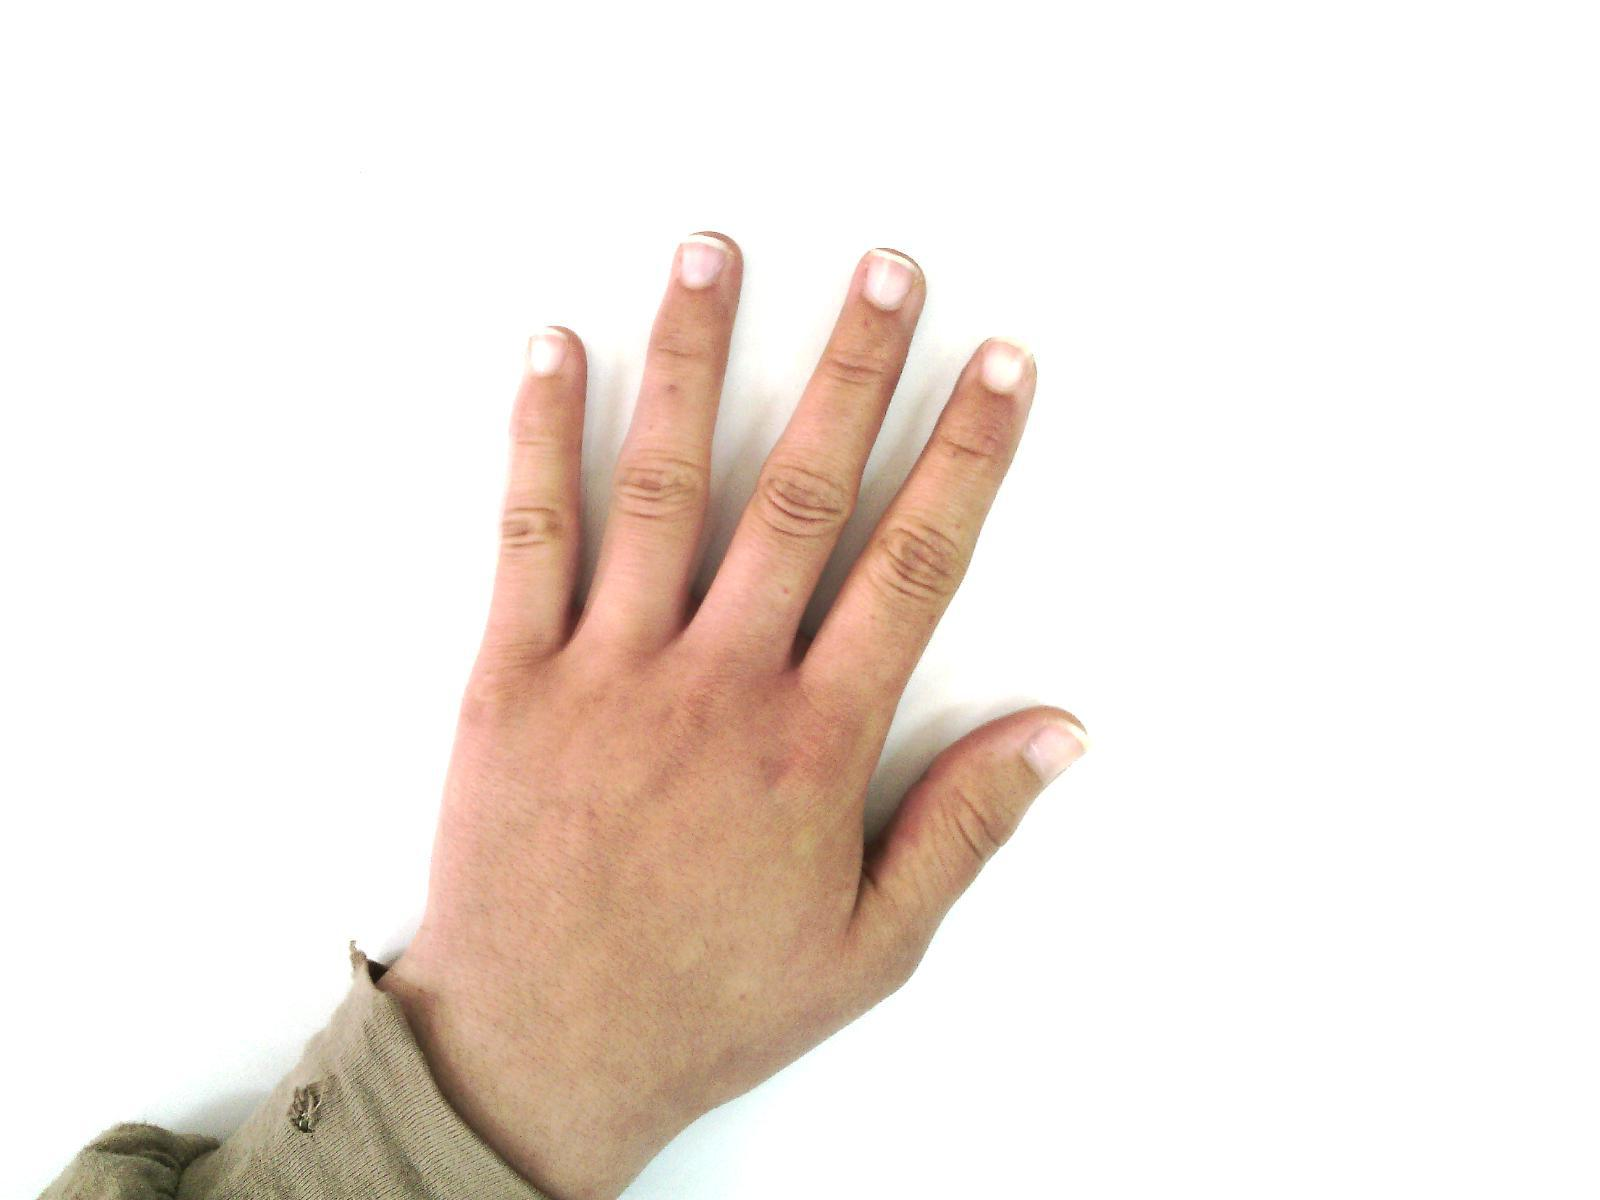hand: (401, 216, 1085, 1071)
